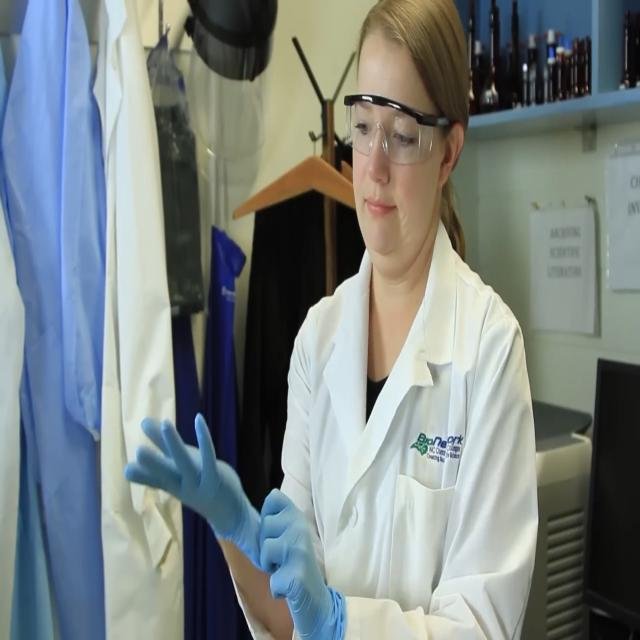googles: (339, 88, 463, 178)
labcoat: (227, 209, 541, 640), (0, 0, 112, 640), (90, 0, 192, 640), (0, 190, 28, 640)
